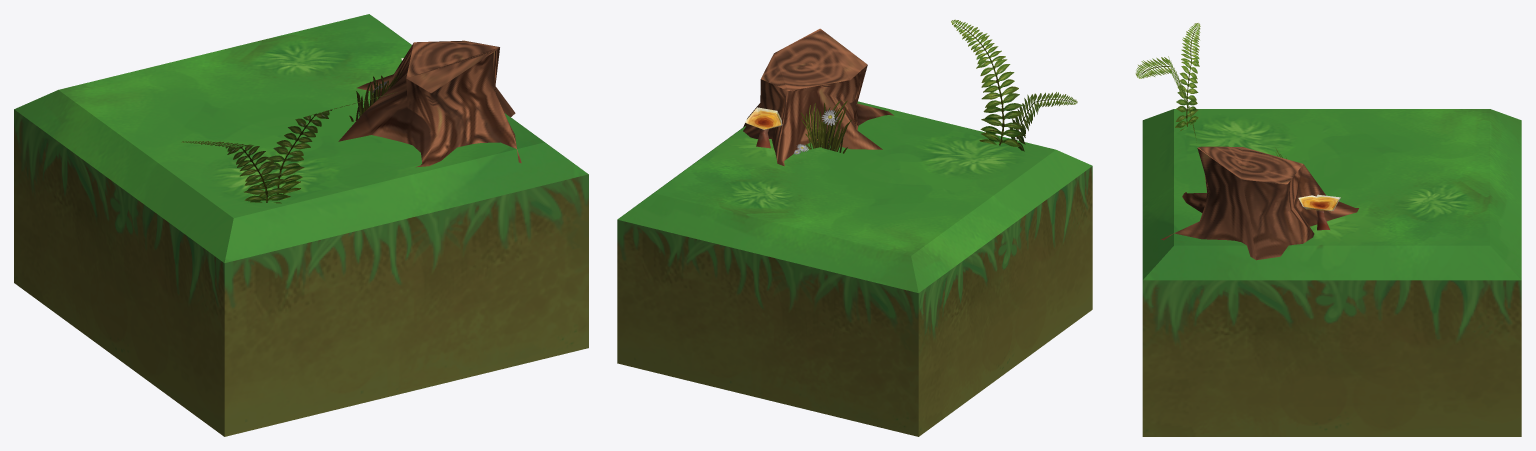
The model's file is tile_final10.FBX.
3 renders of one model, left to right at view 1: azimuth 30°, elevation 25°; view 2: azimuth 150°, elevation 25°; view 3: azimuth 270°, elevation 25°, orthographic. The views are drawn at different scales.
Parts seen in each view (by area): view 1: Prefab2; view 2: Prefab2; view 3: Prefab2.
Boxes of the visible parts, x1,y1,x2,y2 form: Prefab2: [14, 14, 588, 436]; Prefab2: [617, 19, 1092, 436]; Prefab2: [1135, 23, 1521, 436].
Size of the model in its own units: 26.28 by 20.47 by 26.36.
Materials: 3 (3 with a texture image).
